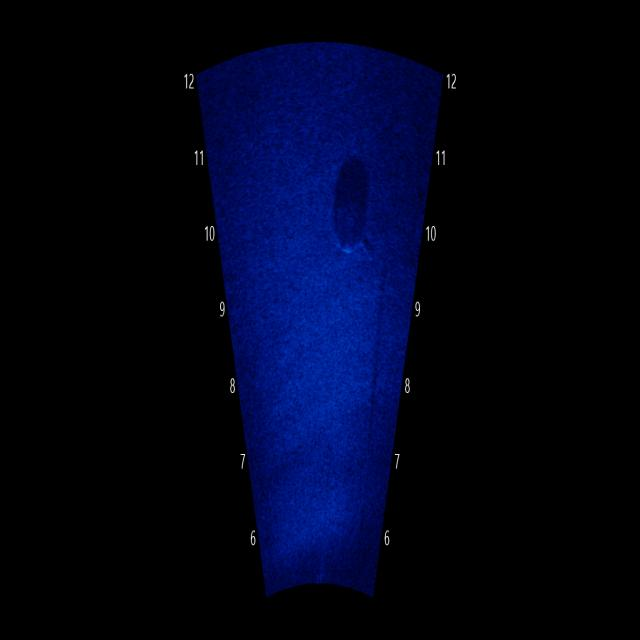circle: (327, 146, 388, 284)
